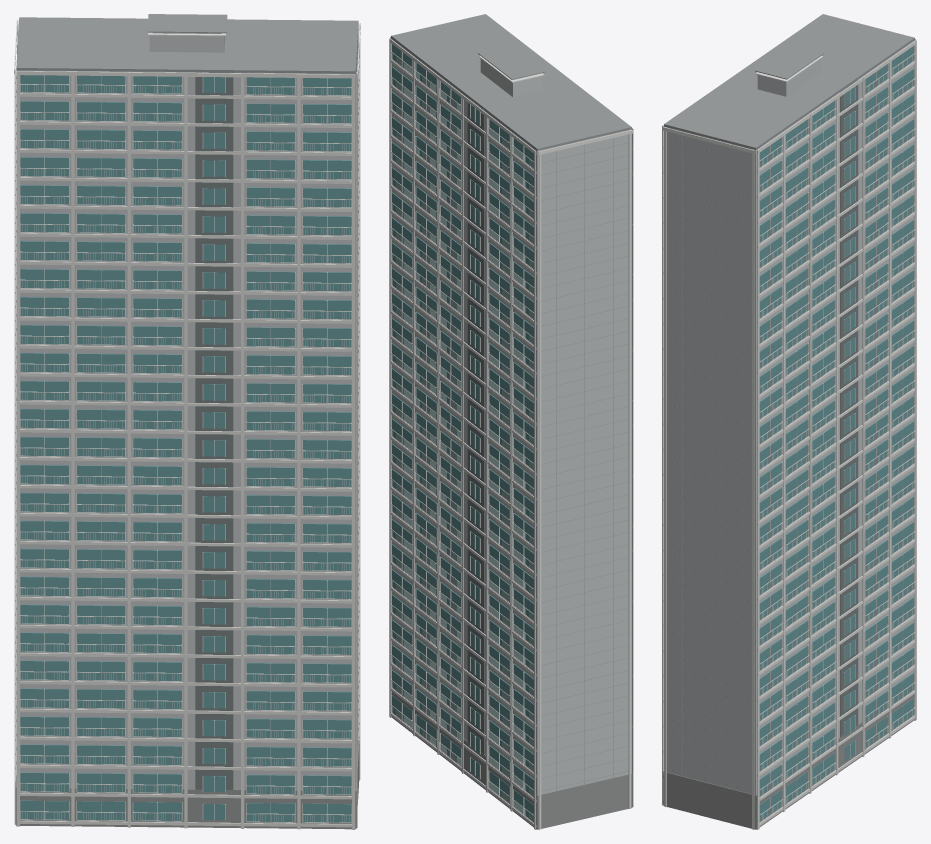
The model's file is bespoke-jamsil-ricenz-262.glb.
3 renders of one model, left to right at view 1: azimuth 30°, elevation 25°; view 2: azimuth 150°, elevation 25°; view 3: azimuth 270°, elevation 25°, orthographic. The views are drawn at different scales.
Parts seen in each view (by area): view 1: Ricenz262_editable_Ricenz262_turquoise_balcony_glazing, Ricenz262_editable_Ricenz262_light_grey_solid_wall, Ricenz262_white_exact_chunk_1, Ricenz262_white_exact_chunk_0, Ricenz262_white_exact_chunk_2, Ricenz262_editable_Ricenz262_modest_grey_flat_roof_caps, Ricenz262_editable_Ricenz262_narrow_charcoal_service_strips, Ricenz262_editable_Ricenz262_muted_ground_wall, Ricenz262_white_exact_chunk_4; view 2: Ricenz262_editable_Ricenz262_light_grey_solid_wall, Ricenz262_editable_Ricenz262_turquoise_balcony_glazing, Ricenz262_white_exact_chunk_3, Ricenz262_white_exact_chunk_2, Ricenz262_white_exact_chunk_4, Ricenz262_editable_Ricenz262_modest_grey_flat_roof_caps, Ricenz262_editable_Ricenz262_narrow_charcoal_service_strips, Ricenz262_editable_Ricenz262_muted_ground_wall; view 3: Ricenz262_editable_Ricenz262_light_grey_solid_wall, Ricenz262_editable_Ricenz262_turquoise_balcony_glazing, Ricenz262_white_exact_chunk_2, Ricenz262_white_exact_chunk_3, Ricenz262_editable_Ricenz262_modest_grey_flat_roof_caps, Ricenz262_white_exact_chunk_4, Ricenz262_editable_Ricenz262_narrow_charcoal_service_strips, Ricenz262_editable_Ricenz262_muted_ground_wall.
Boxes of the visible parts, <box> form: Ricenz262_editable_Ricenz262_turquoise_balcony_glazing: <box>20,75,351,822</box>; Ricenz262_editable_Ricenz262_light_grey_solid_wall: <box>16,25,358,790</box>; Ricenz262_white_exact_chunk_1: <box>131,76,351,827</box>; Ricenz262_white_exact_chunk_0: <box>20,75,184,825</box>; Ricenz262_white_exact_chunk_2: <box>16,23,360,829</box>; Ricenz262_editable_Ricenz262_modest_grey_flat_roof_caps: <box>15,14,359,782</box>; Ricenz262_editable_Ricenz262_narrow_charcoal_service_strips: <box>195,72,233,789</box>; Ricenz262_editable_Ricenz262_muted_ground_wall: <box>15,740,359,829</box>; Ricenz262_white_exact_chunk_4: <box>14,19,225,824</box>; Ricenz262_editable_Ricenz262_light_grey_solid_wall: <box>391,38,631,795</box>; Ricenz262_editable_Ricenz262_turquoise_balcony_glazing: <box>392,44,533,821</box>; Ricenz262_white_exact_chunk_3: <box>439,81,536,826</box>; Ricenz262_white_exact_chunk_2: <box>390,37,633,807</box>; Ricenz262_white_exact_chunk_4: <box>389,38,632,829</box>; Ricenz262_editable_Ricenz262_modest_grey_flat_roof_caps: <box>391,14,631,791</box>; Ricenz262_editable_Ricenz262_narrow_charcoal_service_strips: <box>467,97,484,754</box>; Ricenz262_editable_Ricenz262_muted_ground_wall: <box>391,687,632,829</box>; Ricenz262_editable_Ricenz262_light_grey_solid_wall: <box>664,40,914,795</box>; Ricenz262_editable_Ricenz262_turquoise_balcony_glazing: <box>759,46,913,821</box>; Ricenz262_white_exact_chunk_2: <box>662,118,836,829</box>; Ricenz262_white_exact_chunk_3: <box>811,64,915,771</box>; Ricenz262_editable_Ricenz262_modest_grey_flat_roof_caps: <box>664,14,914,790</box>; Ricenz262_white_exact_chunk_4: <box>755,39,916,829</box>; Ricenz262_editable_Ricenz262_narrow_charcoal_service_strips: <box>840,79,858,737</box>; Ricenz262_editable_Ricenz262_muted_ground_wall: <box>663,690,914,829</box>.
Bounding box in the file's own units: 34.3 × 82.71 × 27.25.
